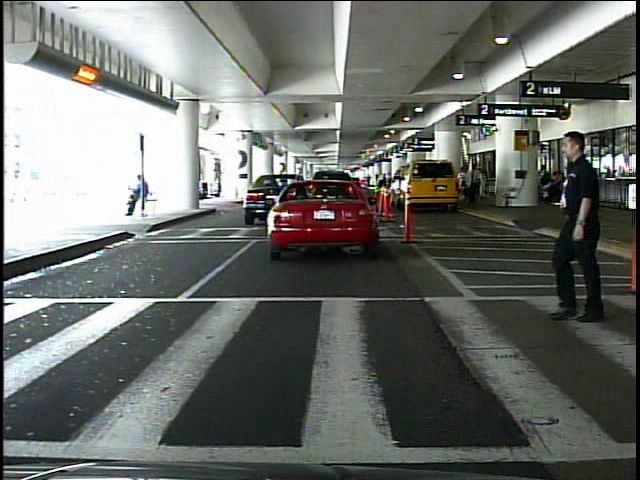person: (553, 136, 636, 327)
